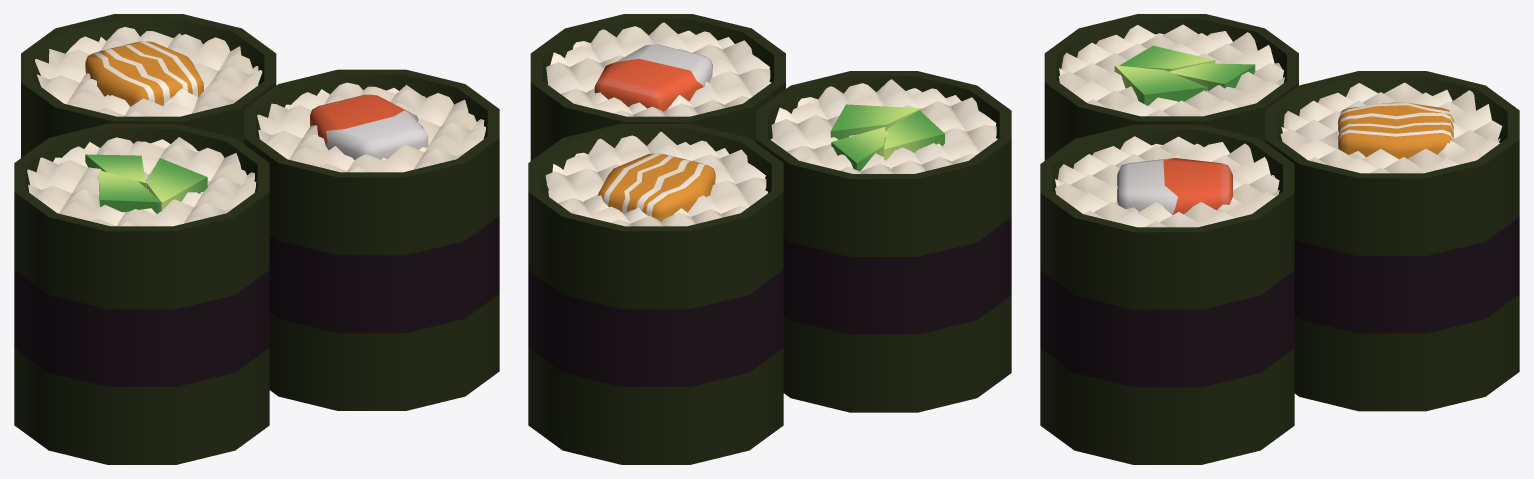
Rendered from Sushi_Visual.fbx.
3 renders of one model, left to right at view 1: azimuth 30°, elevation 25°; view 2: azimuth 150°, elevation 25°; view 3: azimuth 270°, elevation 25°, orthographic.
Visible parts, largest first — view 1: Sushi_Visual; view 2: Sushi_Visual; view 3: Sushi_Visual.
Part boxes in pixels (box(x1,y1,x2,y2)): Sushi_Visual: box(14, 14, 499, 464); Sushi_Visual: box(528, 14, 1011, 464); Sushi_Visual: box(1040, 14, 1519, 464).
Bounding box in the file's own units: 19.28 × 9.95 × 17.89.
